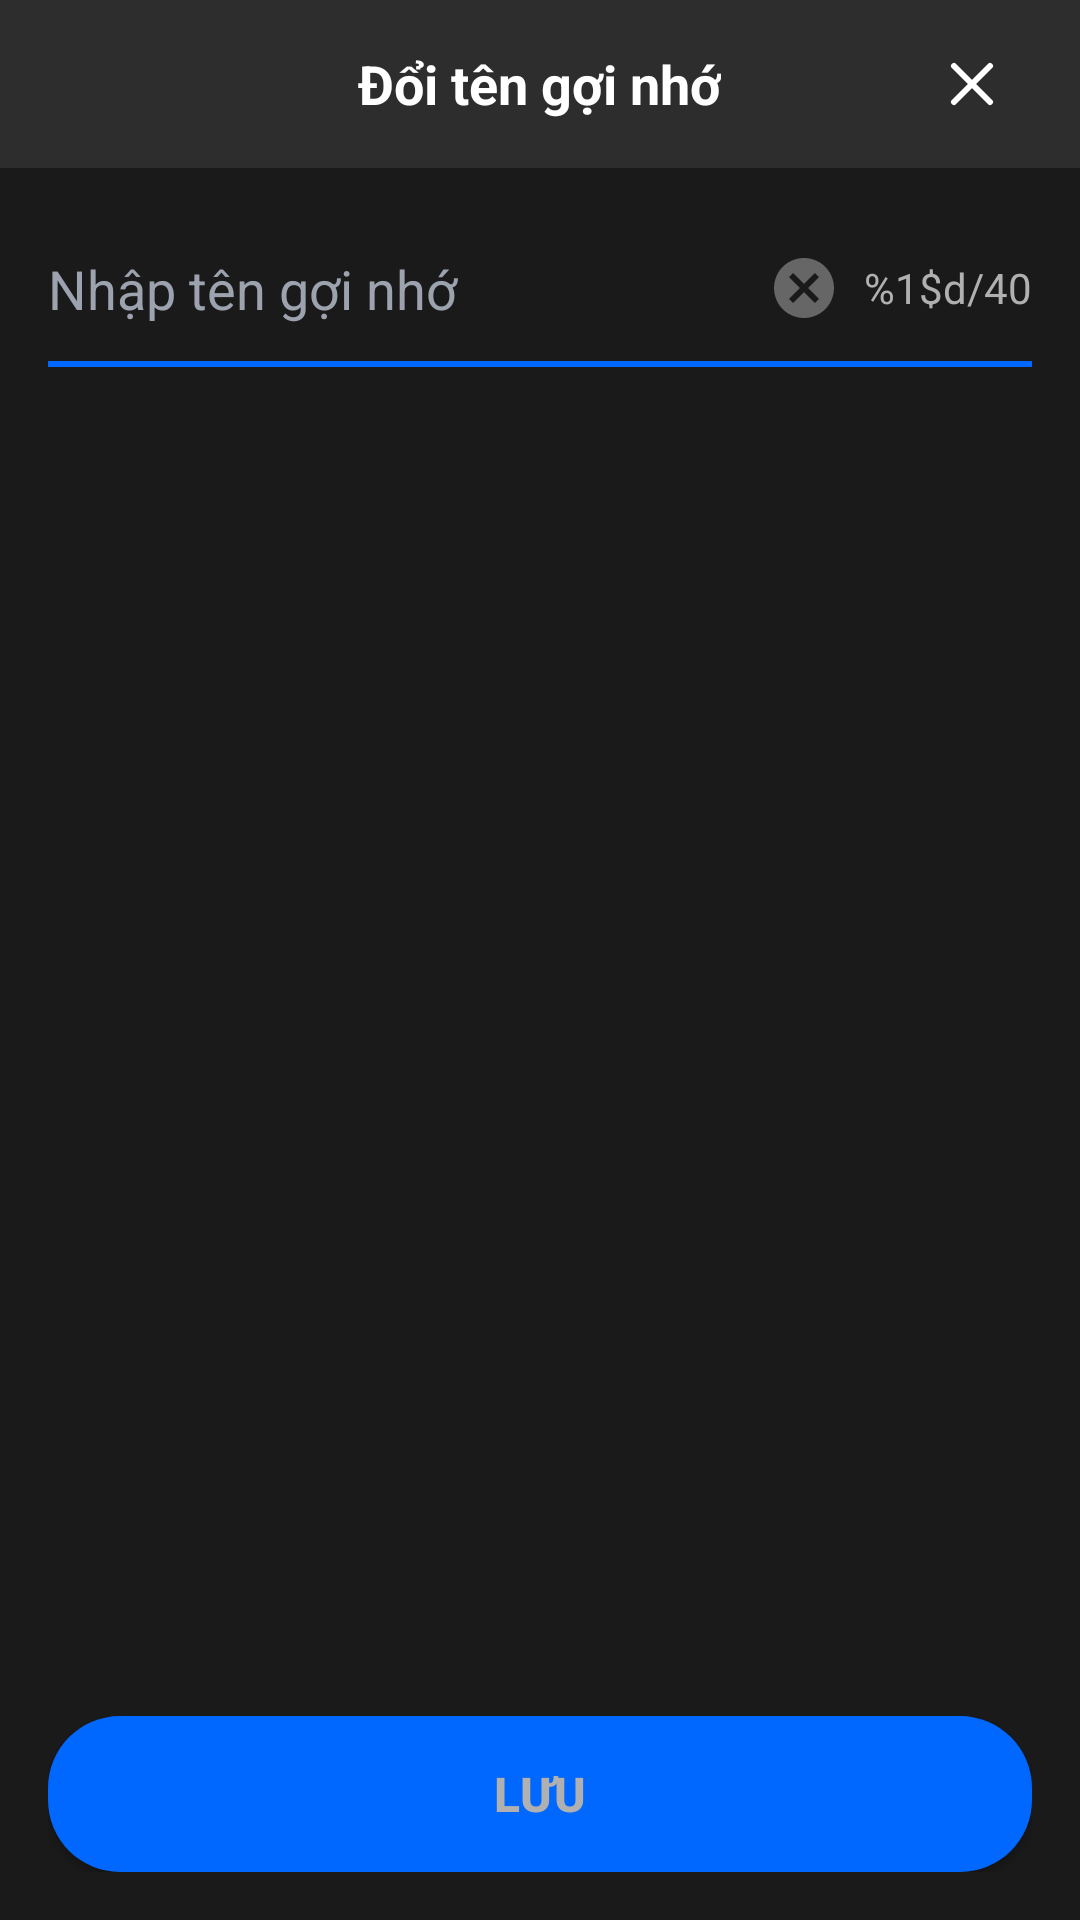

Point at icon controls on the screen. Image size 1080x1920, points as point (x, y).
Clear: point (804, 288)
Close: point (972, 84)
